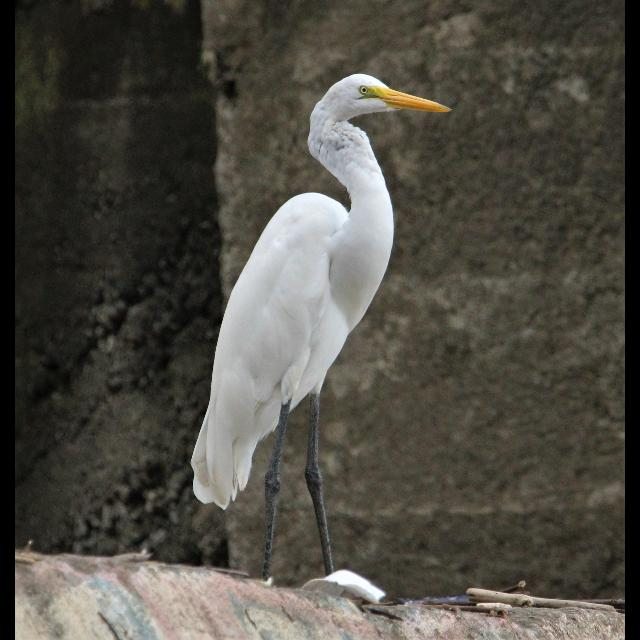egret: (194, 68, 448, 574)
